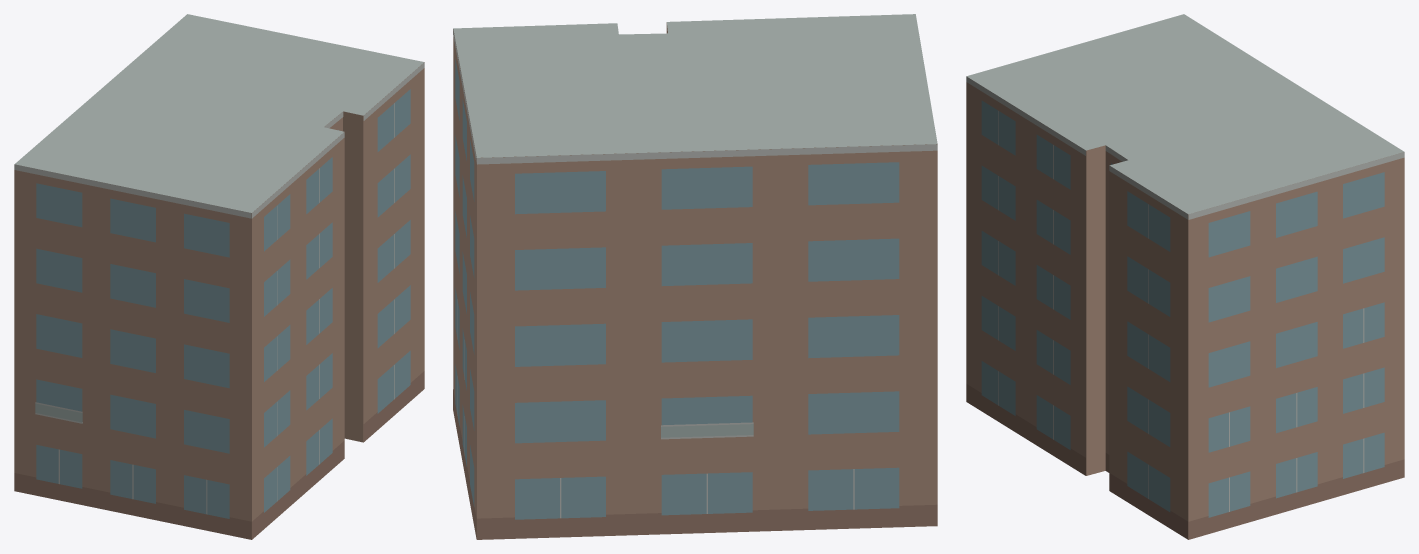
File: survey-upis-32884970.glb
The picture shows the model from 3 angles, left to right: view 1: azimuth 30°, elevation 25°; view 2: azimuth 150°, elevation 25°; view 3: azimuth 270°, elevation 25°; orthographic projection. The views are drawn at different scales.
Visible parts, largest first — view 1: survey-upis-32884970.tmp; view 2: survey-upis-32884970.tmp; view 3: survey-upis-32884970.tmp.
Boxes of the visible parts, box(x1,y1,x2,y2) form: survey-upis-32884970.tmp: box(14, 14, 424, 539); survey-upis-32884970.tmp: box(453, 14, 937, 539); survey-upis-32884970.tmp: box(966, 14, 1404, 539).
Size of the model in its own units: 18.62 by 14.1 by 17.22.
